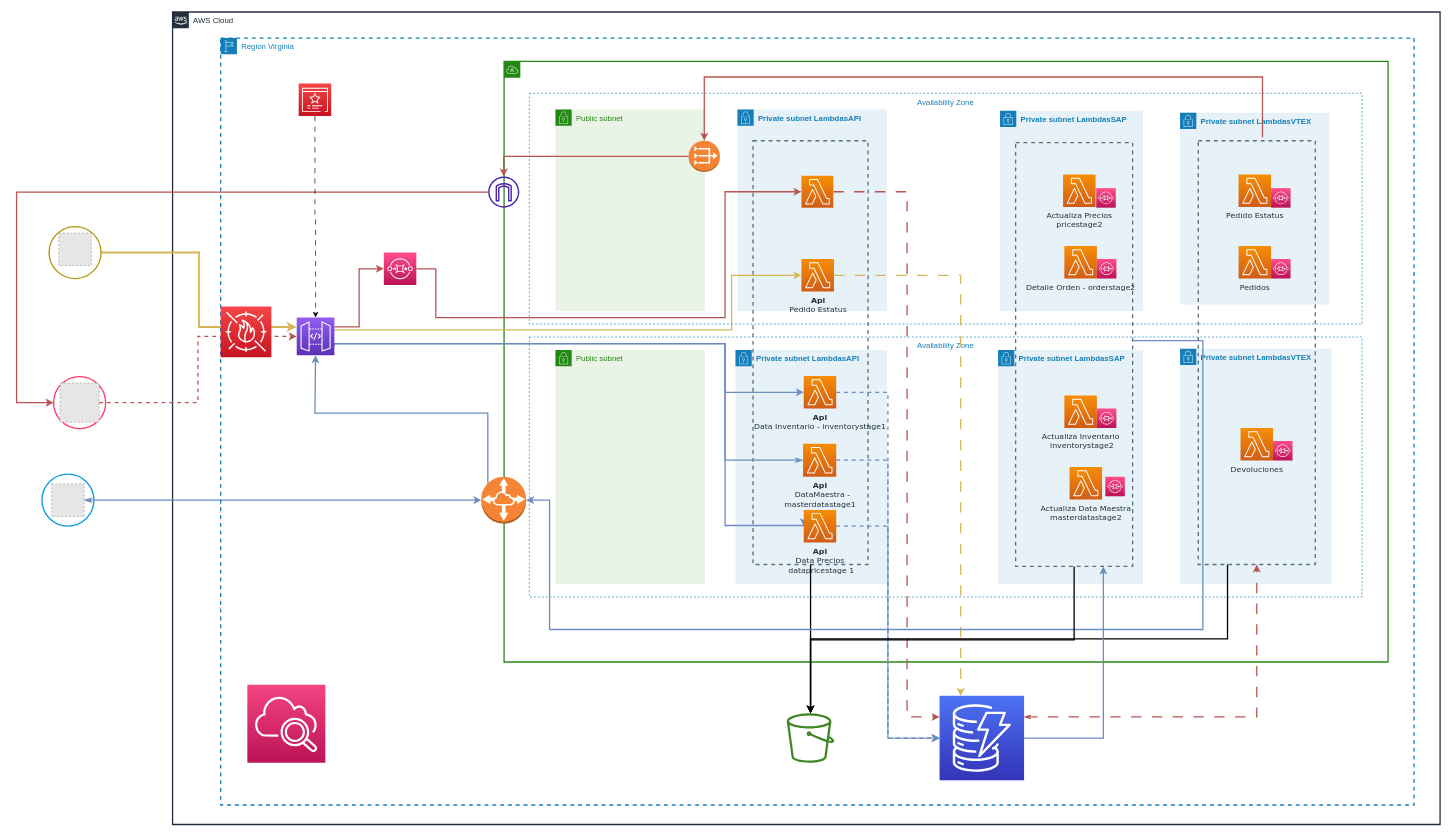
Some shapes in this 1451 by 836 pixel diagram are drawn without their labels. Grey dashed boxes stand in for pictures. The box of each missing label's shape, as (x1, y1, x2, y2) in pixels:
ACM: (298, 83, 331, 116)
API Gateway HTTP: (296, 317, 334, 355)
Api Ordenes entrantes - orderstage1: (801, 175, 833, 208)
CloudWatch Monitoreo: (247, 684, 325, 763)
Despliegue S3: (786, 713, 834, 762)
Dynamodb Repositorio: (939, 695, 1024, 780)
Lambdas API - stage1: (752, 140, 868, 565)
Lambdas SAP: (1197, 140, 1316, 565)
Lambdas VTex - stage2: (1015, 142, 1133, 567)
SQS Ordenes: (383, 252, 416, 285)
VPC: (503, 60, 1388, 662)
WAF: (220, 306, 271, 357)
